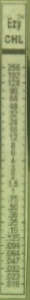number: (5, 265, 21, 273), (5, 242, 20, 250), (6, 234, 21, 242), (7, 63, 22, 71), (4, 273, 21, 280), (5, 257, 21, 264), (5, 250, 21, 257), (7, 72, 21, 80), (5, 281, 20, 288), (7, 79, 20, 87), (7, 227, 19, 235), (7, 211, 19, 219), (7, 203, 19, 211), (8, 219, 19, 227), (7, 195, 18, 203), (9, 110, 18, 119), (9, 102, 18, 111), (8, 180, 19, 187), (9, 126, 18, 134), (9, 118, 18, 126), (9, 94, 19, 101), (9, 87, 19, 94), (9, 134, 18, 141), (9, 157, 16, 164), (10, 164, 16, 172), (10, 150, 16, 158), (10, 142, 16, 150), (10, 172, 15, 179), (11, 188, 15, 196)
